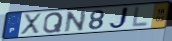8: (89, 9, 106, 30)
J: (108, 6, 131, 30)
L: (130, 6, 150, 29)
N: (64, 9, 88, 33)
Q: (42, 11, 65, 34)
X: (19, 12, 43, 35)
